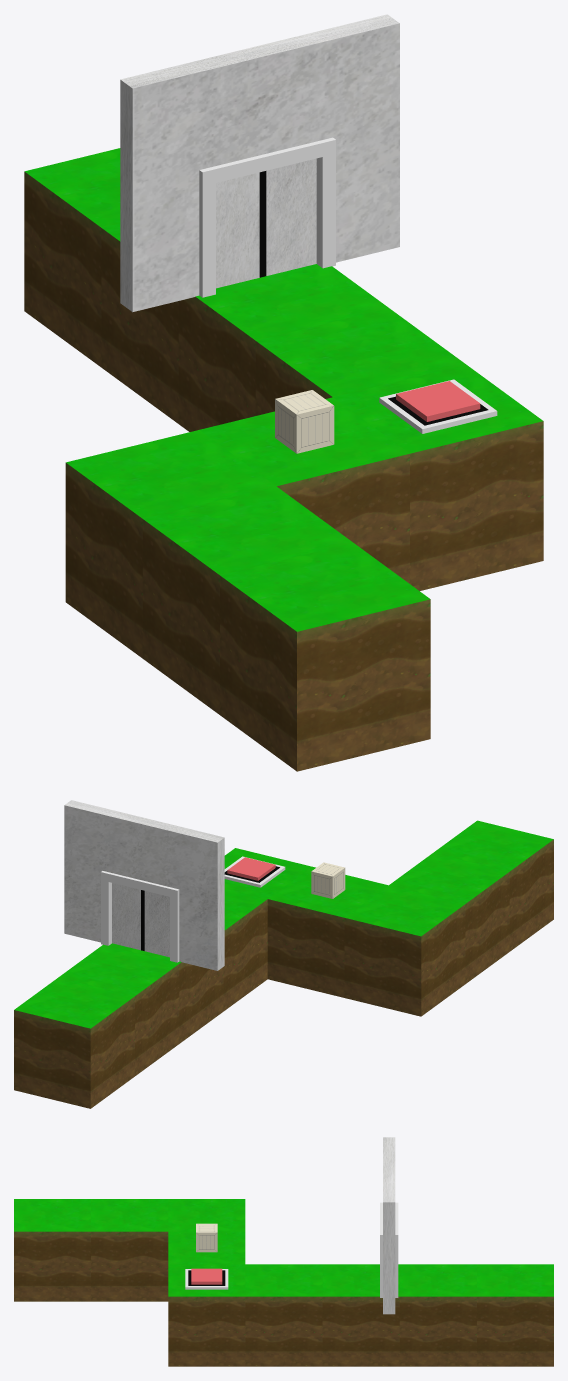
The model's file is stage1.gltf.
3 views of the same model, one above another, from view 1: azimuth 30°, elevation 25°; view 2: azimuth 150°, elevation 25°; view 3: azimuth 270°, elevation 25° (orthographic). The views are drawn at different scales.
Parts seen in each view (by area): view 1: Cube.002, Cube, Cube.006, Cube.004, Cube.003, Cube.008, Cube.005, Cube.010, Cube.007, Cube.009, Cube.001, 立方体; view 2: Cube.002, Cube.003, Cube.010, Cube.005, Cube, Cube.004, Cube.009, Cube.007, Cube.008, Cube.006, Cube.001, 立方体; view 3: Cube.004, Cube.007, Cube.009, Cube, Cube.010, Cube.008, Cube.006, Cube.002, Cube.003, Cube.005, Cube.001, 立方体.
Part boxes in pixels (<box>): Cube.002: <box>120,14,399,312</box>; Cube: <box>220,543,430,771</box>; Cube.006: <box>333,364,543,590</box>; Cube.004: <box>142,486,352,714</box>; Cube.003: <box>65,430,275,658</box>; Cube.008: <box>178,264,388,431</box>; Cube.005: <box>199,397,409,583</box>; Cube.010: <box>24,148,120,366</box>; Cube.007: <box>255,308,465,415</box>; Cube.009: <box>101,223,178,423</box>; Cube.001: <box>379,379,497,433</box>; 立方体: <box>275,390,334,453</box>; Cube.002: <box>64,800,224,970</box>; Cube.003: <box>344,885,465,1016</box>; Cube.010: <box>14,977,134,1108</box>; Cube.005: <box>267,866,388,997</box>; Cube: <box>433,820,553,951</box>; Cube.004: <box>389,853,509,983</box>; Cube.009: <box>58,945,179,1075</box>; Cube.007: <box>223,888,267,1010</box>; Cube.008: <box>103,943,223,1043</box>; Cube.006: <box>224,848,311,898</box>; Cube.001: <box>224,856,285,887</box>; 立方体: <box>311,862,345,898</box>; Cube.004: <box>91,1199,168,1301</box>; Cube.007: <box>245,1264,322,1366</box>; Cube.009: <box>399,1264,476,1366</box>; Cube: <box>14,1199,90,1301</box>; Cube.010: <box>477,1264,553,1366</box>; Cube.008: <box>322,1264,399,1366</box>; Cube.006: <box>168,1264,245,1366</box>; Cube.002: <box>380,1137,398,1314</box>; Cube.003: <box>168,1199,245,1231</box>; Cube.005: <box>168,1231,245,1264</box>; Cube.001: <box>185,1268,228,1289</box>; 立方体: <box>196,1223,217,1252</box>.
Size of the model in its own units: 1.77 by 1.3 by 3.5.
Materials: 37 (31 with a texture image).
